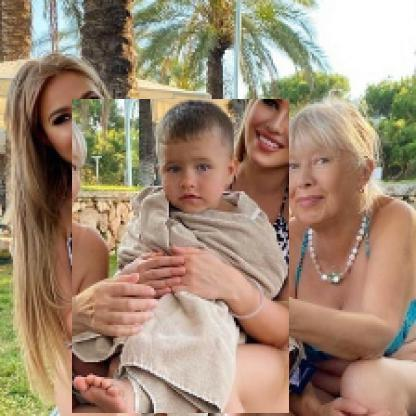child: (73, 100, 291, 415)
